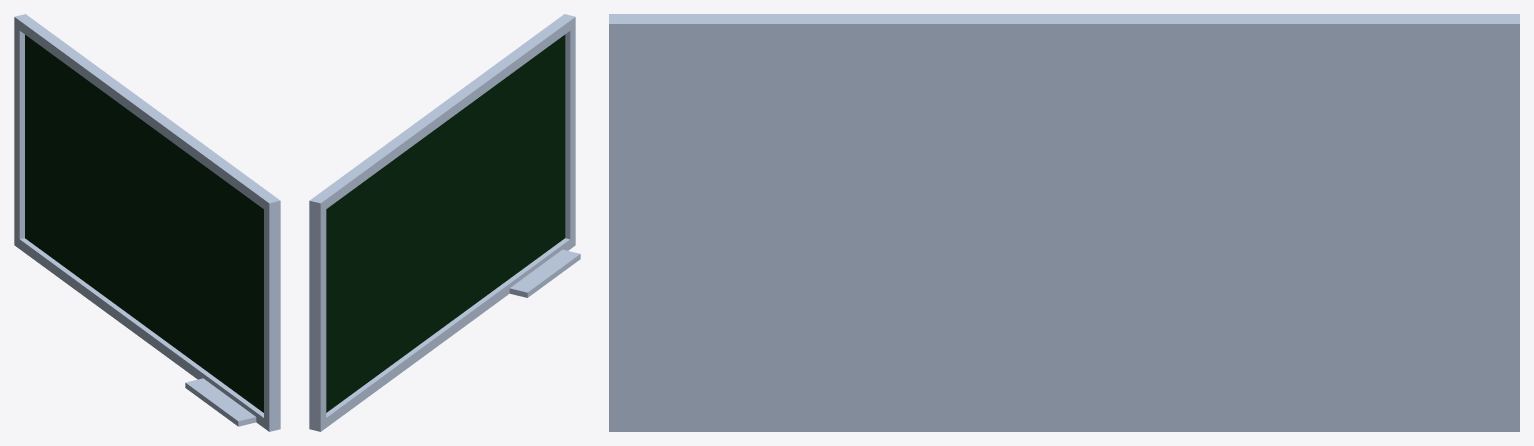
The model's file is quadro_sala.fbx.
The picture shows the model from 3 angles, left to right: view 1: azimuth 30°, elevation 25°; view 2: azimuth 150°, elevation 25°; view 3: azimuth 270°, elevation 25°; orthographic projection. The views are drawn at different scales.
Visible parts, largest first — view 1: Quadro; view 2: Quadro; view 3: Quadro.
Part boxes in pixels (left/top/right/bottom): Quadro: left=14, top=14, right=280, bottom=431; Quadro: left=309, top=14, right=580, bottom=431; Quadro: left=609, top=14, right=1519, bottom=431.
Bounding box in the file's own units: 24.96 × 187 × 378.
